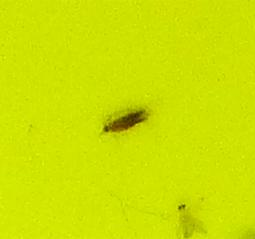Trichoptera: (100, 100, 155, 139)
